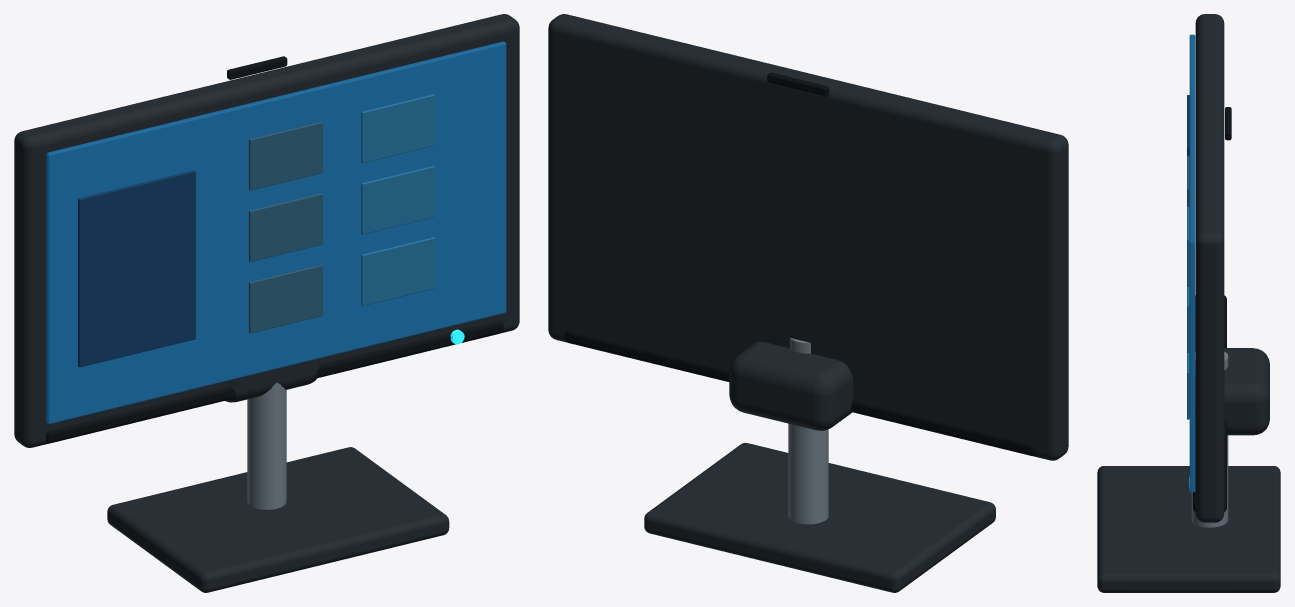
Rendered from monitor.glb.
The picture shows the model from 3 angles, left to right: view 1: azimuth 30°, elevation 25°; view 2: azimuth 150°, elevation 25°; view 3: azimuth 270°, elevation 25°; orthographic projection. The views are drawn at different scales.
Visible parts, largest first — view 1: Anti-glare display, Thin monitor chassis, Monitor base, Desktop UI tile (×6), Desktop UI sidebar, Lower bezel, Height-adjustable column, VESA hinge, Webcam cover rail; view 2: Thin monitor chassis, Monitor base, VESA hinge, Lower bezel, Height-adjustable column, Webcam cover rail; view 3: Monitor base, Thin monitor chassis, VESA hinge, Anti-glare display, Lower bezel, Height-adjustable column.
Part boxes in pixels (left/top/right/bottom): Anti-glare display: left=46, top=41, right=506, bottom=423; Thin monitor chassis: left=14, top=14, right=519, bottom=447; Monitor base: left=107, top=447, right=449, bottom=592; Desktop UI tile (×6): left=249, top=94, right=434, bottom=333; Desktop UI sidebar: left=78, top=170, right=195, bottom=367; Lower bezel: left=45, top=320, right=503, bottom=443; Height-adjustable column: left=247, top=382, right=286, bottom=509; VESA hinge: left=225, top=358, right=319, bottom=402; Webcam cover rail: left=227, top=56, right=287, bottom=79; Thin monitor chassis: left=548, top=14, right=1068, bottom=460; Monitor base: left=644, top=443, right=995, bottom=592; VESA hinge: left=729, top=341, right=853, bottom=430; Lower bezel: left=565, top=329, right=1036, bottom=456; Height-adjustable column: left=788, top=338, right=828, bottom=524; Webcam cover rail: left=767, top=72, right=829, bottom=96; Monitor base: left=1097, top=466, right=1280, bottom=592; Thin monitor chassis: left=1195, top=14, right=1224, bottom=522; VESA hinge: left=1195, top=348, right=1269, bottom=435; Anti-glare display: left=1189, top=34, right=1195, bottom=492; Lower bezel: left=1193, top=295, right=1226, bottom=511; Height-adjustable column: left=1191, top=351, right=1228, bottom=527.
Bounding box in the file's own units: 2.04 × 1.8 × 0.7.
